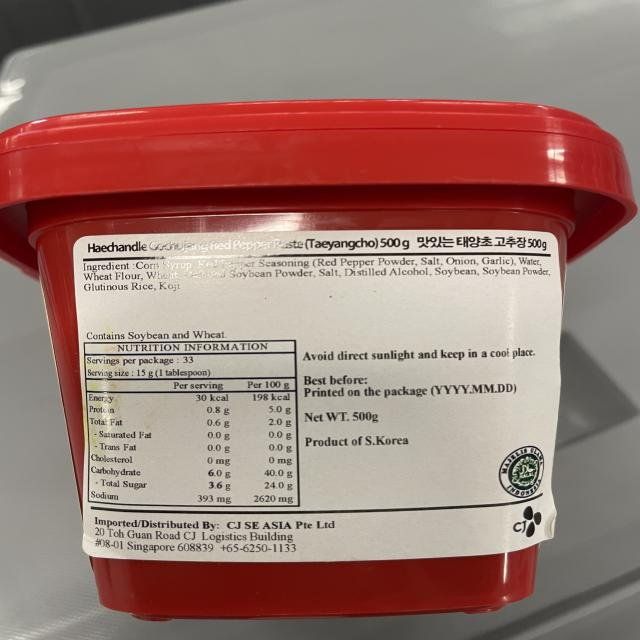object_name: (43, 121, 587, 594)
